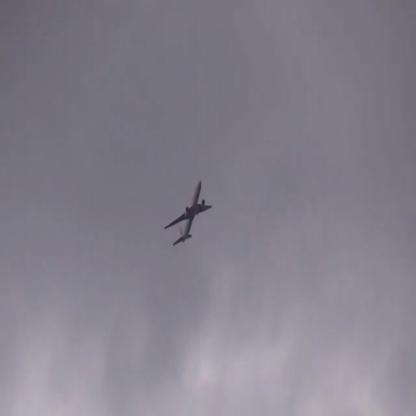CIV_Plane: (163, 180, 213, 246)
